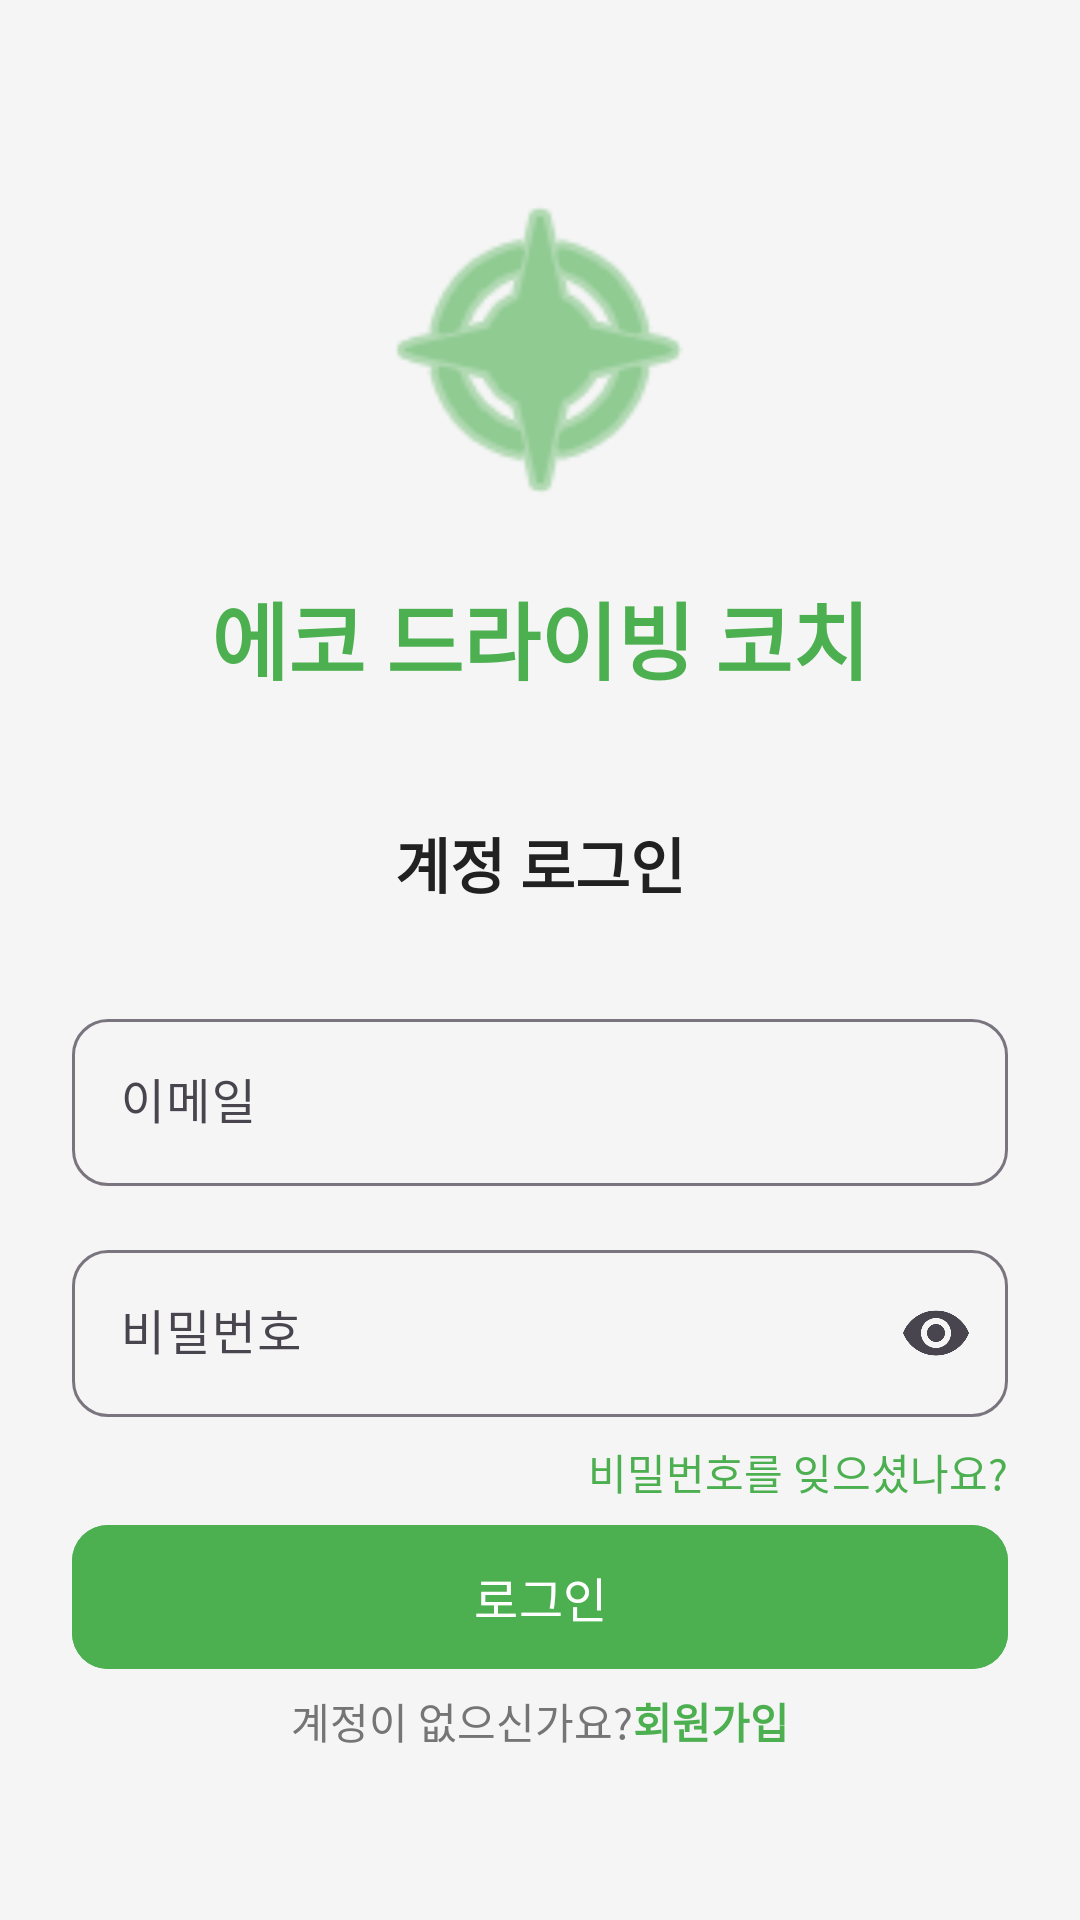

Icons on this 1080*1920 Android screen, each with the point to tap as point (x, y):
compass: point (538, 349)
